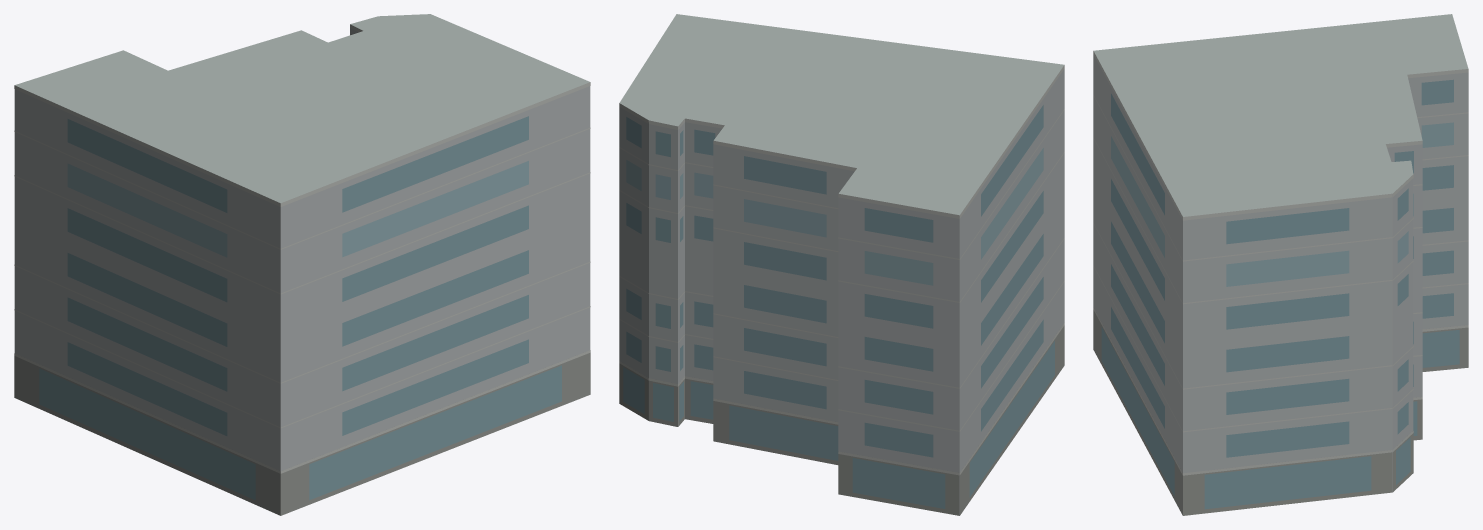
The model's file is survey-upis-32754856.glb.
The picture shows the model from 3 angles, left to right: view 1: azimuth 30°, elevation 25°; view 2: azimuth 150°, elevation 25°; view 3: azimuth 270°, elevation 25°; orthographic projection. The views are drawn at different scales.
Visible parts, largest first — view 1: survey-upis-32754856.tmp; view 2: survey-upis-32754856.tmp; view 3: survey-upis-32754856.tmp.
Part boxes in pixels (left/top/right/bottom): survey-upis-32754856.tmp: left=14, top=14, right=590, bottom=515; survey-upis-32754856.tmp: left=619, top=14, right=1064, bottom=515; survey-upis-32754856.tmp: left=1093, top=14, right=1468, bottom=515.
Bounding box in the file's own units: 29.02 × 19.9 × 22.66.
